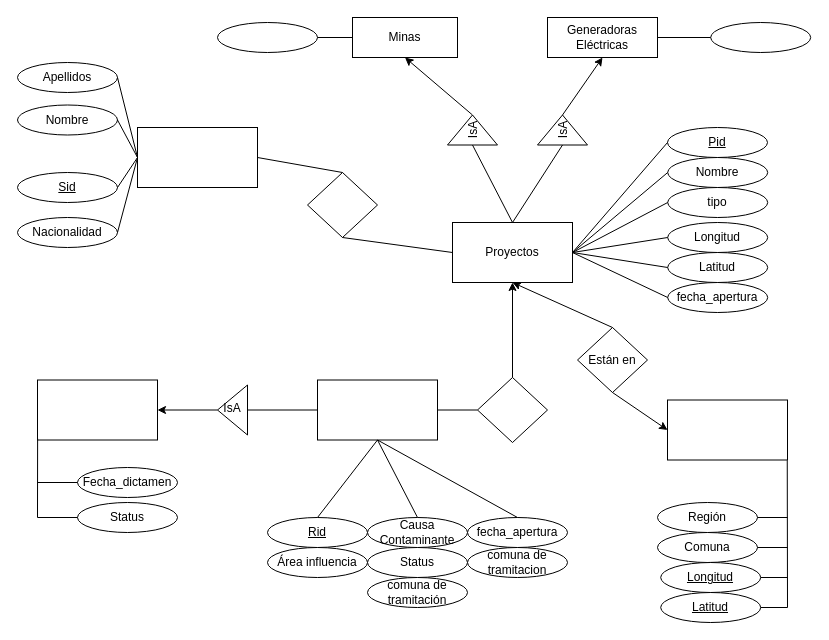
The diagram is 829 pixels wide and 640 high, and some of its shapes have lost their labels. The box of each missing label's shape, as (x1, y1, x2, y2) in pixels:
Generador: (710, 22, 811, 52)
Les hacen: (476, 376, 548, 442)
Mineral: (216, 22, 318, 52)
Participan: (306, 172, 378, 238)
Recursos: (316, 379, 438, 440)
Recursos Cerrados: (36, 379, 158, 440)
Región-Comuna: (666, 399, 788, 460)
Socios: (136, 126, 258, 188)
